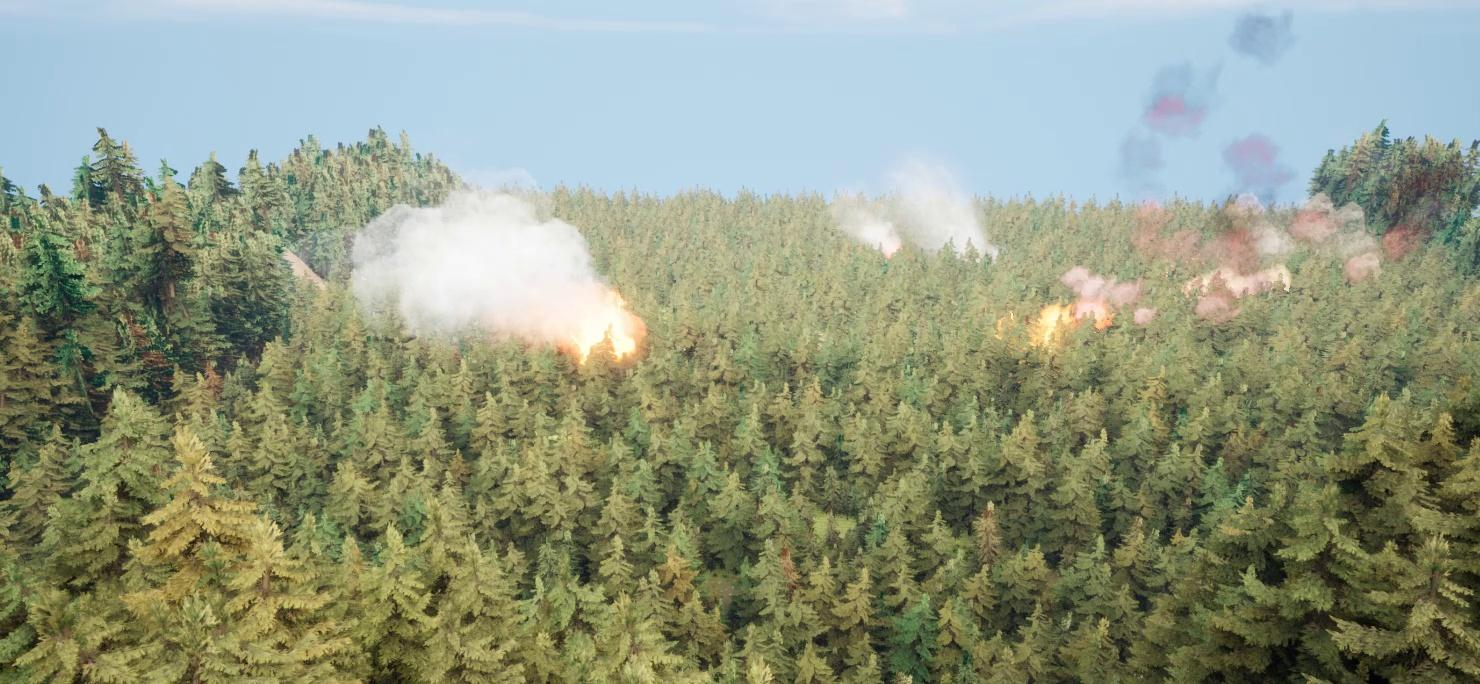fire: (562, 291, 647, 360), (1016, 296, 1108, 347)
smoke: (1070, 4, 1385, 324), (334, 186, 621, 347), (818, 163, 1011, 273)
